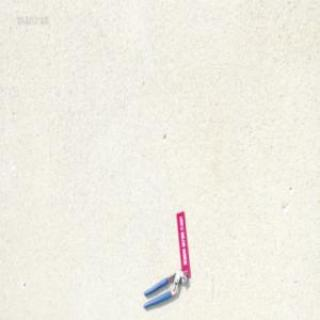LuggageTagtrack_idkeyframe: (175, 209, 190, 276)
Pliertrack_idkeyframe: (142, 268, 187, 307)
